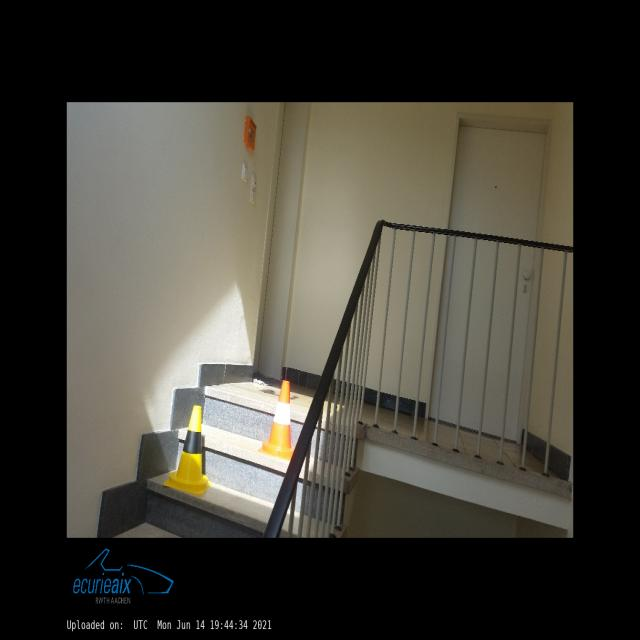orange_cone: (258, 381, 295, 459)
yellow_cone: (163, 406, 211, 494)
